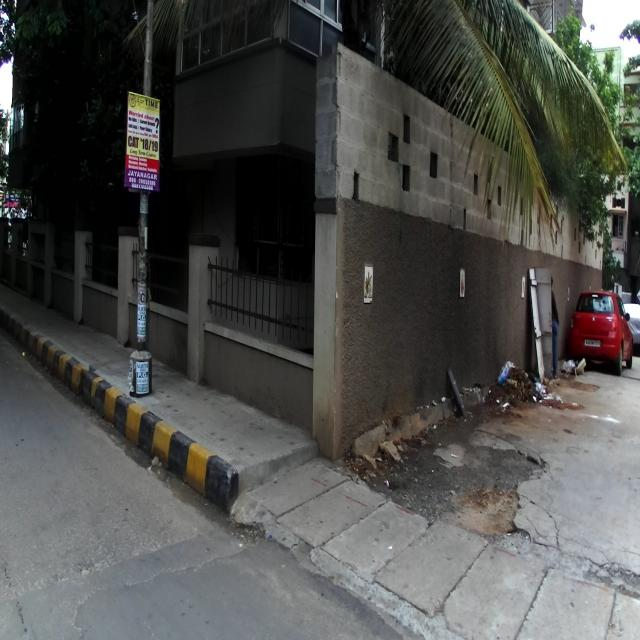car: (568, 289, 632, 375)
